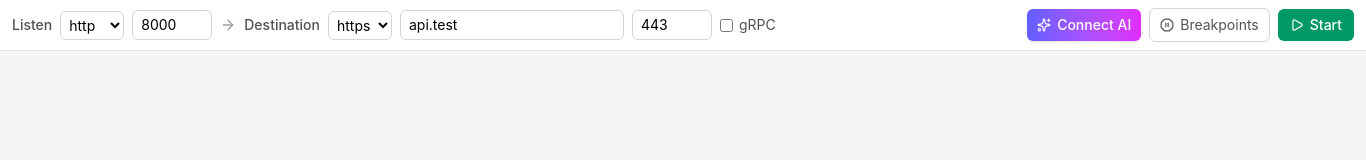
SettingsBar › marks listen port 0 invalid, does not persist it, and disables Start
The width and height of the screenshot is (1366, 160).
Replace the text in the field named "Listen port" with "0": (172, 25) left=132, top=10, right=212, bottom=40
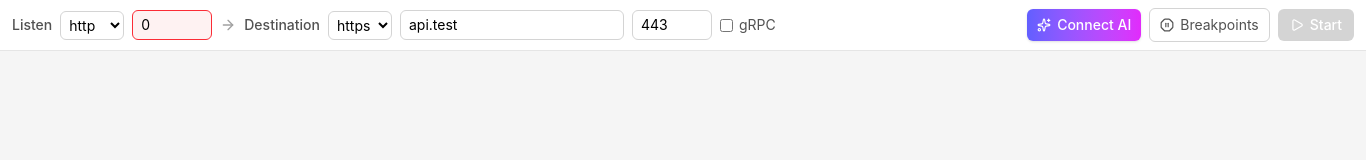
Check: the button "Start" is disabled, box left=1278, top=9, right=1354, bottom=41
